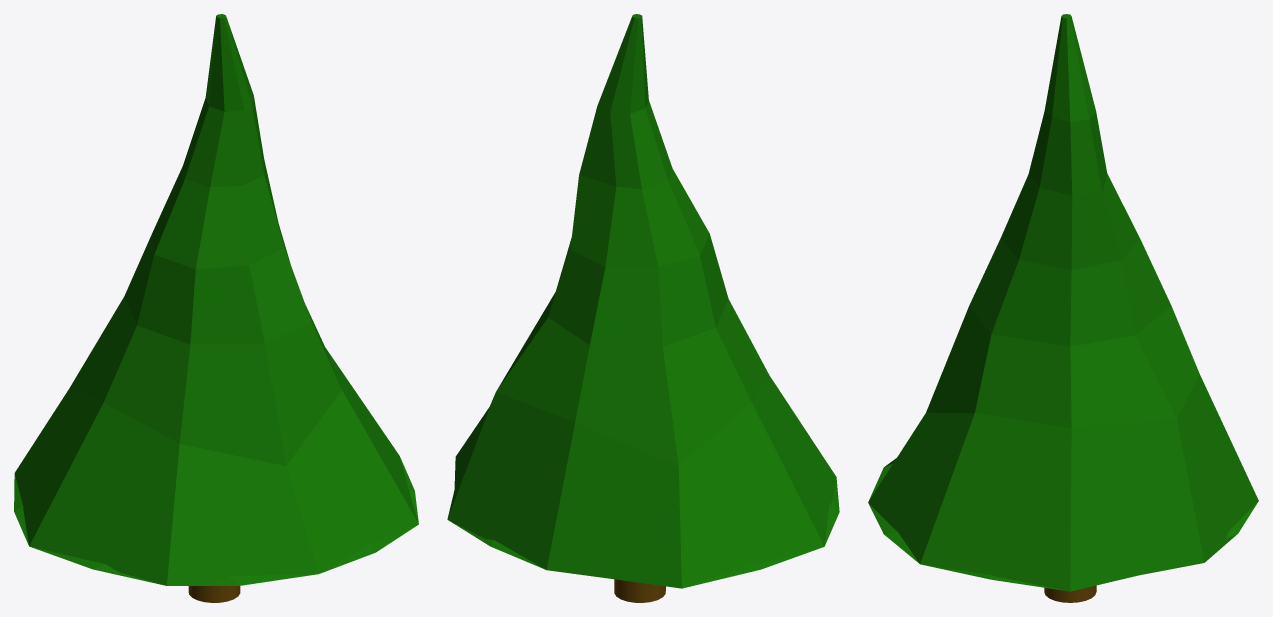
Rendered from evergreen.fbx.
3 renders of one model, left to right at view 1: azimuth 30°, elevation 25°; view 2: azimuth 150°, elevation 25°; view 3: azimuth 270°, elevation 25°, orthographic.
Parts seen in each view (by area): view 1: Top, Trunk; view 2: Top, Trunk; view 3: Top, Trunk.
Part boxes in pixels (box(x1,y1,x2,y2)): Top: box(14, 14, 418, 585); Trunk: box(188, 586, 240, 602); Top: box(447, 14, 839, 588); Trunk: box(614, 579, 665, 602); Top: box(868, 14, 1258, 591); Trunk: box(1044, 585, 1096, 602).
Bounding box in the file's own units: 271 × 403 × 247.
